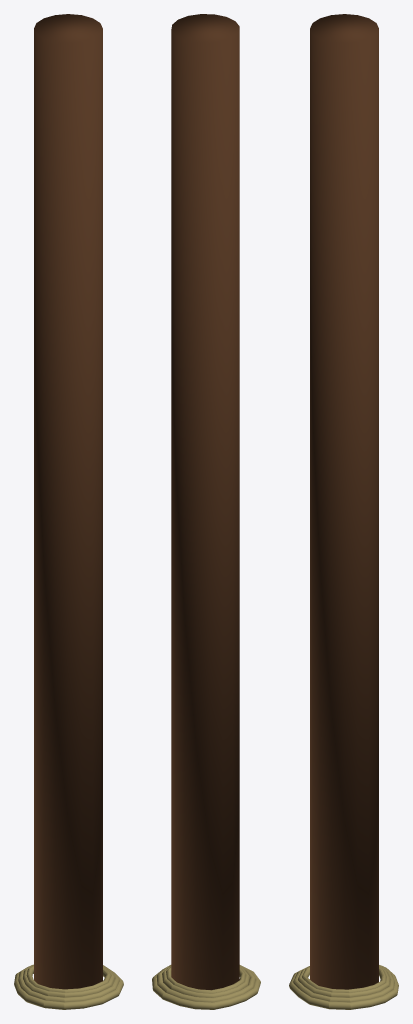
The model's file is Mast.glb.
3 views of the same model, side by side, from view 1: azimuth 90°, elevation 25°; view 2: azimuth 210°, elevation 25°; view 3: azimuth 270°, elevation 25° (orthographic).
Visible parts, largest first — view 1: Cylinder.014; view 2: Cylinder.014; view 3: Cylinder.014.
Boxes of the visible parts, <box> form: Cylinder.014: <box>14,14,123,1009</box>; Cylinder.014: <box>152,14,260,1009</box>; Cylinder.014: <box>289,14,398,1009</box>.
Size of the model in its own units: 2.34 by 23.02 by 2.38.
